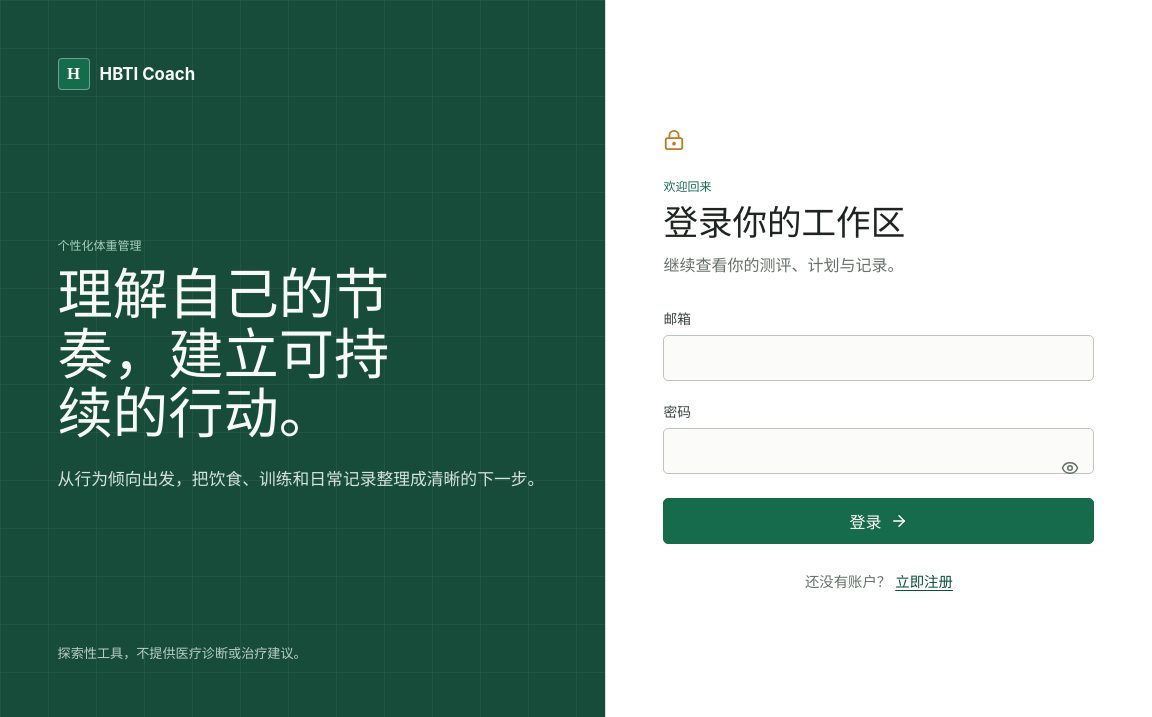
Test: account experience › lets an anonymous user log in without storing a browser token
The image size is (1152, 717).
In the field labelled "邮箱": (879, 358) left=663, top=335, right=1094, bottom=381, type "user@example.com"
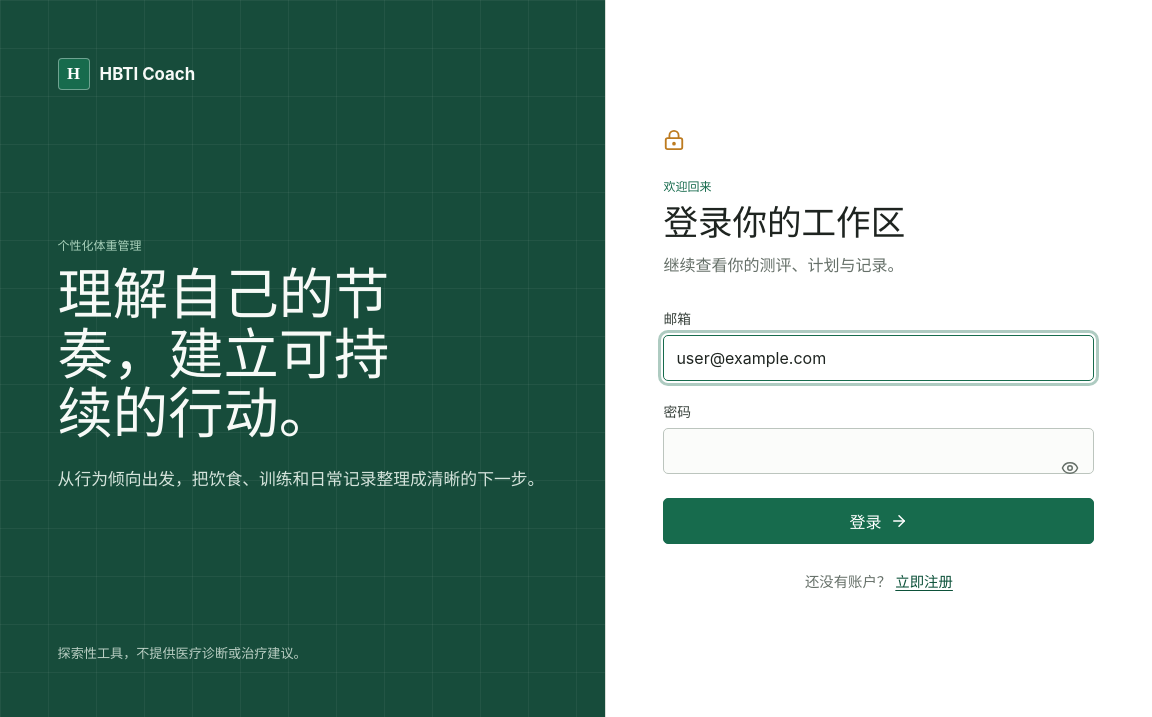
In the password field labelled "密码": (879, 451) left=663, top=428, right=1094, bottom=474, type "correct horse battery staple"
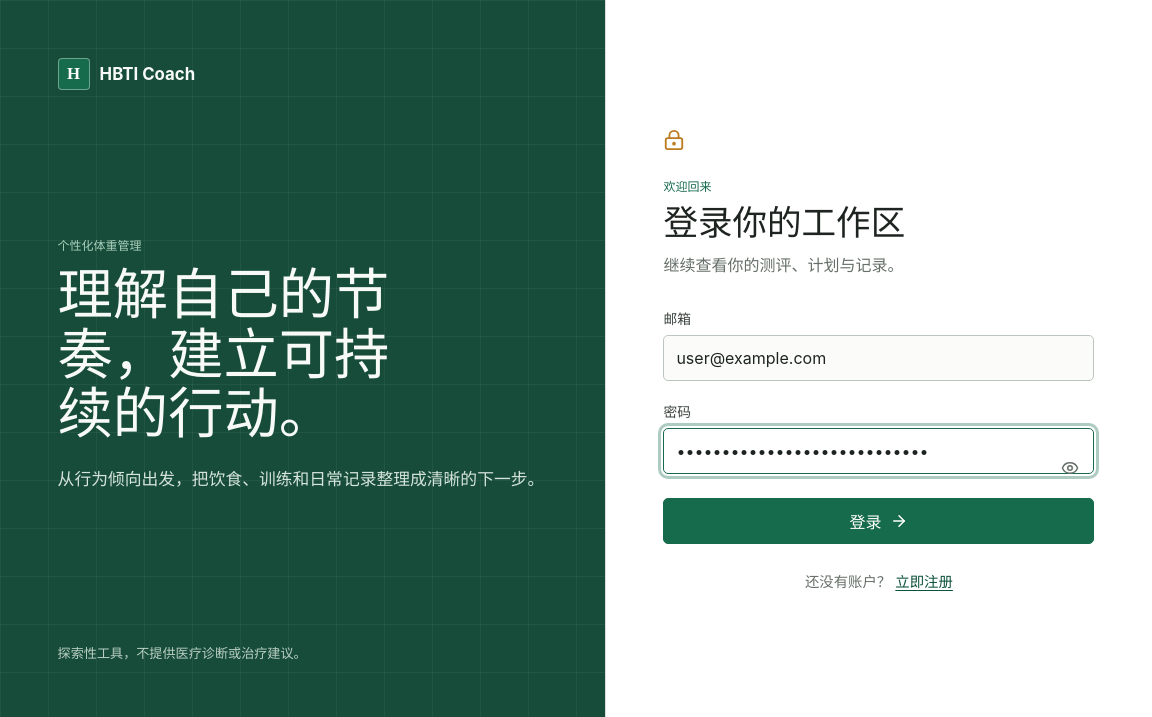
Click the button "登录": (879, 521) left=663, top=498, right=1094, bottom=544
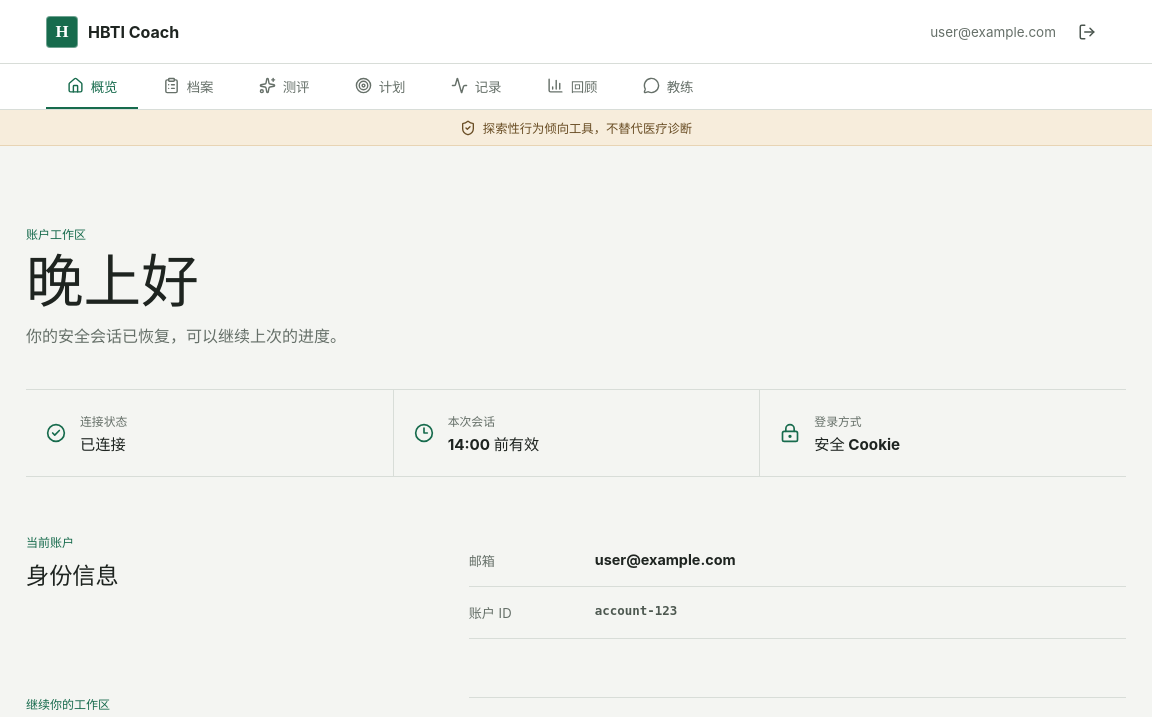
Result: the heading "身份信息" is shown at left=26, top=562, right=119, bottom=590
